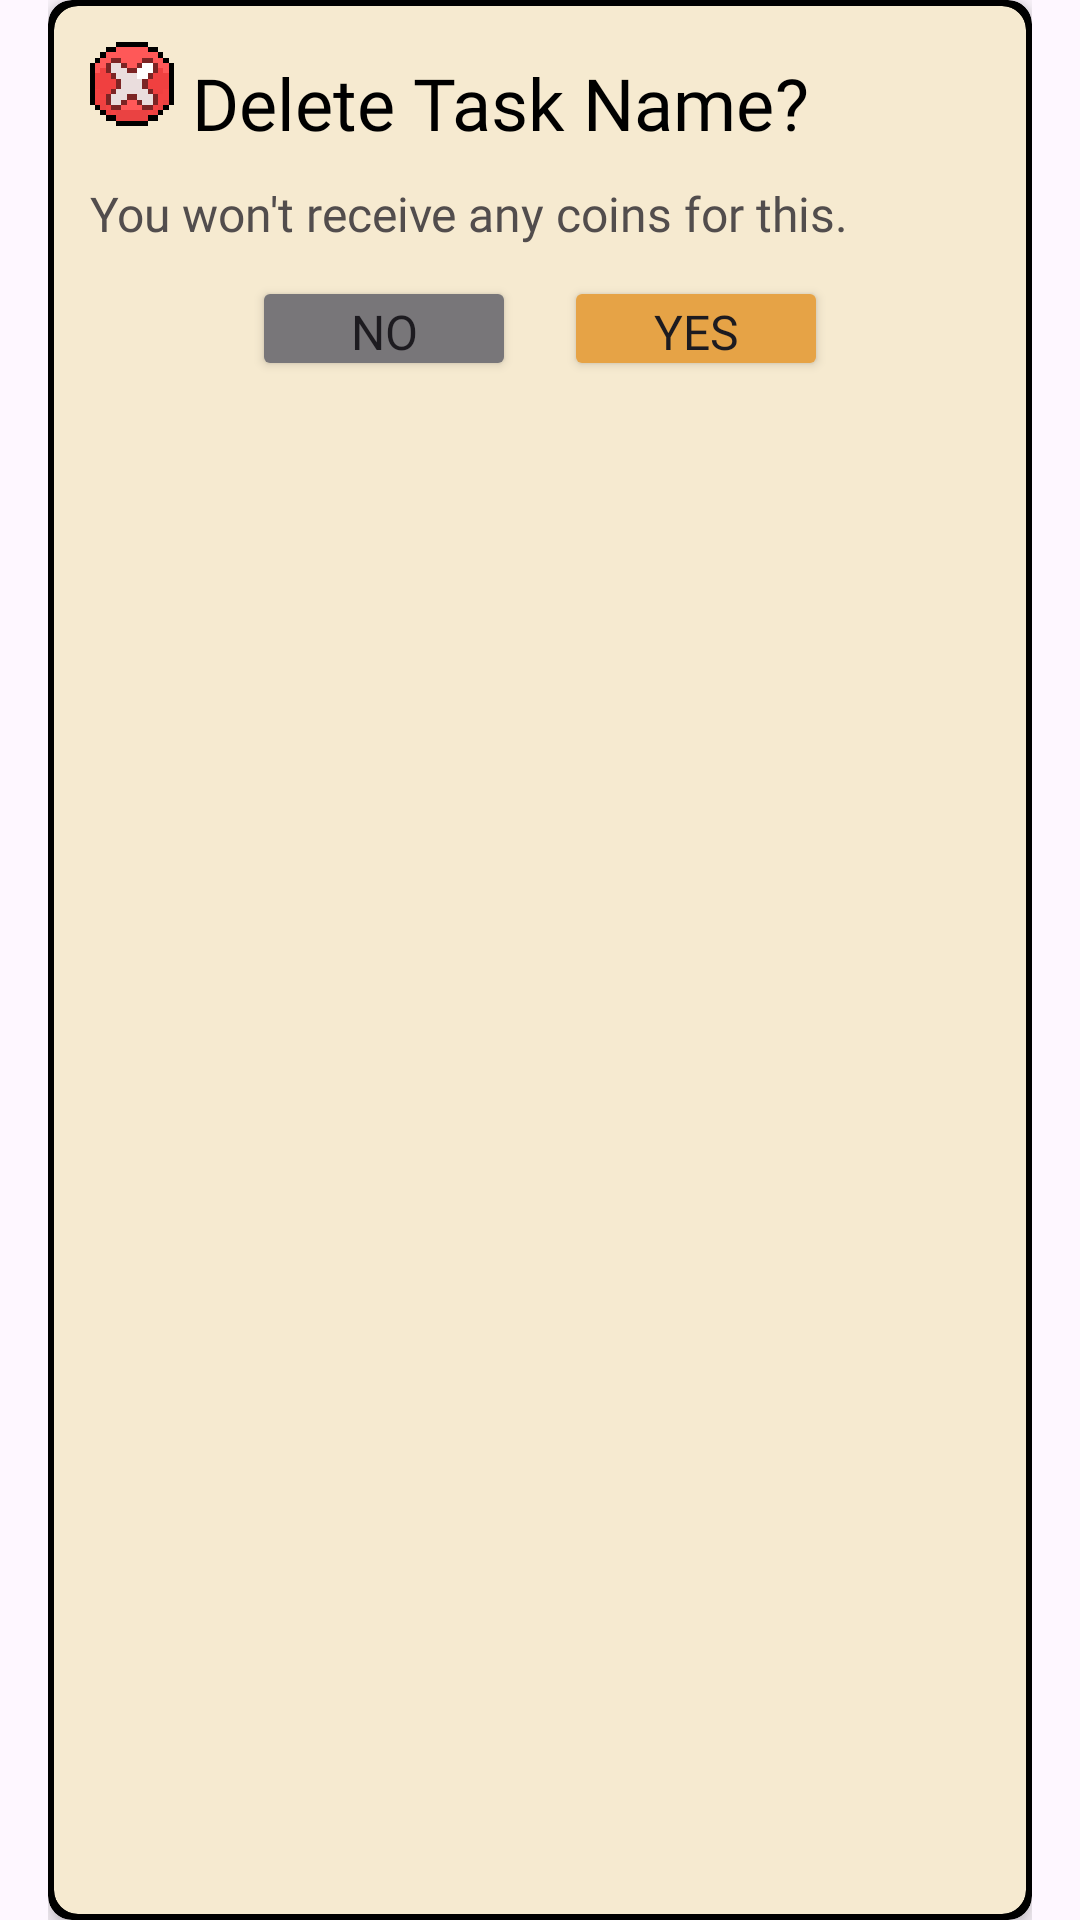

Where to tap for icons on this 1080px×1920px app screen, as [x,y]:
warning: [132,84]
